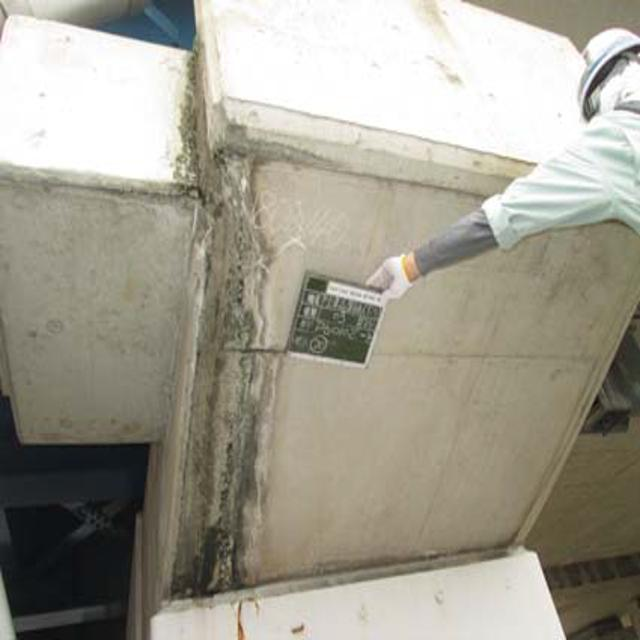leakage: (170, 50, 270, 610)
